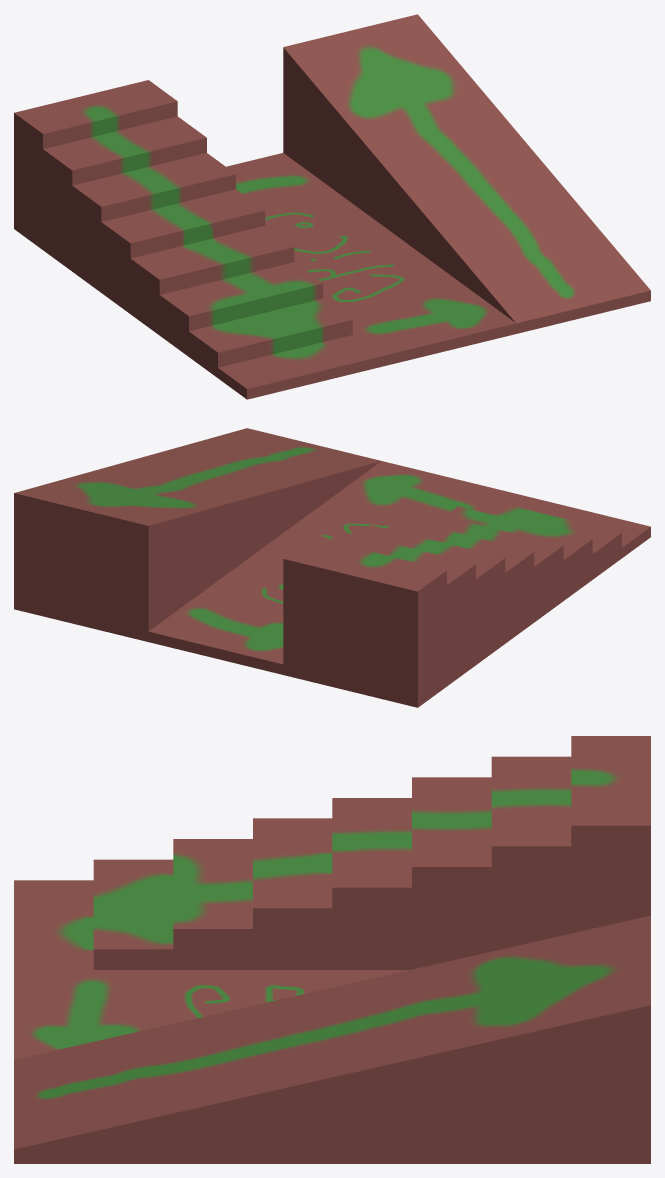
Rendered from meshslope.glb.
3 renders of one model, top to bottom at view 1: azimuth 30°, elevation 25°; view 2: azimuth 150°, elevation 25°; view 3: azimuth 270°, elevation 25°, orthographic. The views are drawn at different scales.
Parts seen in each view (by area): view 1: Plane; view 2: Plane; view 3: Plane.
Boxes of the visible parts, x1,y1,x2,y2 form: Plane: (14, 14, 650, 399); Plane: (14, 428, 650, 707); Plane: (14, 736, 650, 1163).
Bounding box in the file's own units: 4 × 1.1 × 4.
Materials: 1 (1 with a texture image).
